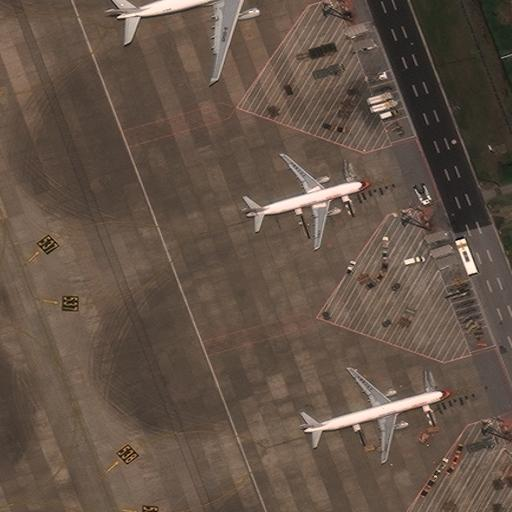Large Civil Transport: (116, 0, 279, 81)
Medium Civil Transport: (301, 367, 449, 459), (244, 153, 368, 247)
